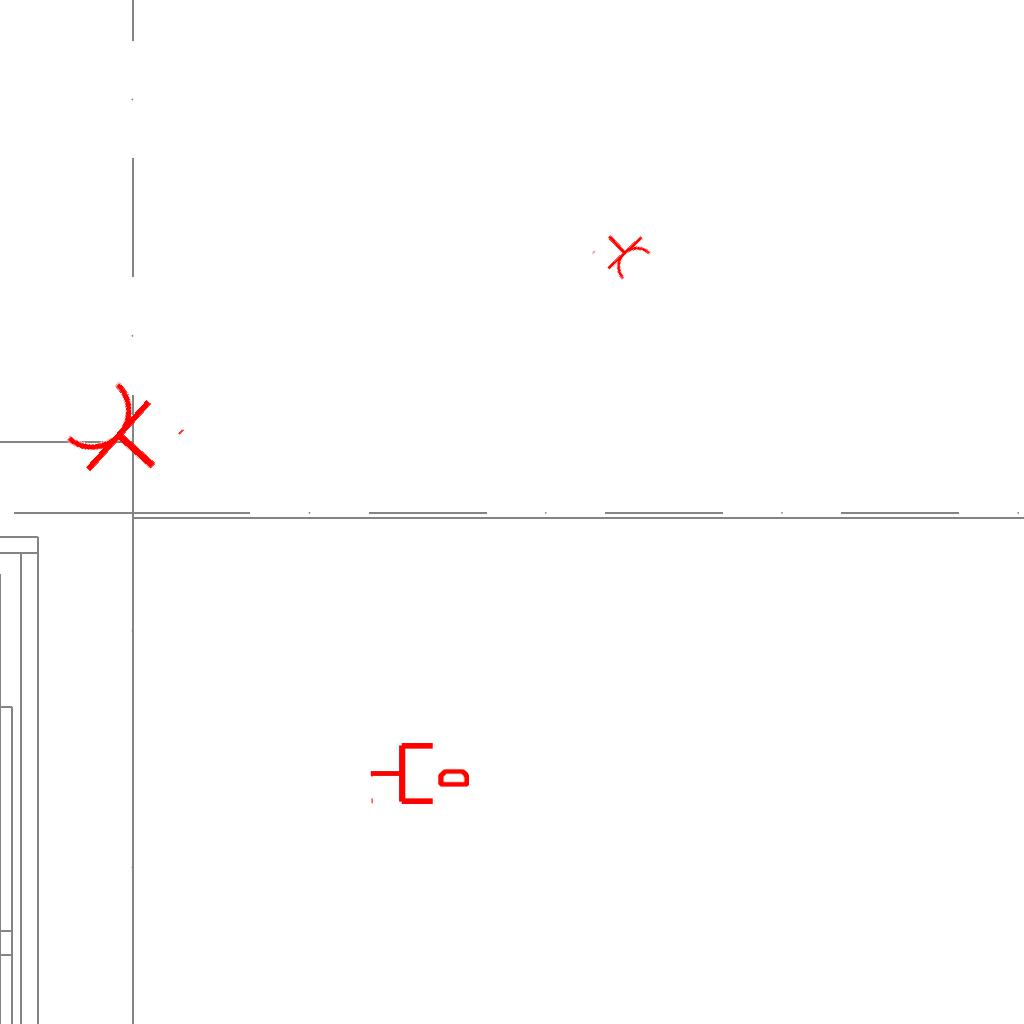Datenanschluss_einfach: (369, 739, 469, 808)
Schukosteckdose_einfach: (57, 370, 190, 504), (589, 219, 656, 285)
